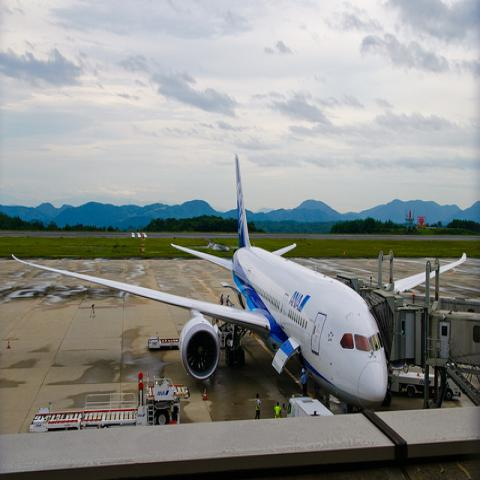truck: (28, 370, 190, 433), (282, 398, 334, 418)
